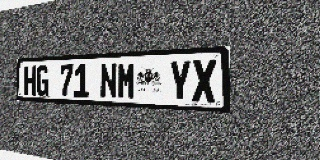1: (74, 64, 89, 98)
7: (59, 64, 73, 97)
G: (36, 65, 49, 96)
H: (24, 66, 36, 96)
M: (117, 62, 136, 100)
N: (100, 63, 117, 99)
X: (192, 59, 216, 103)
Y: (169, 60, 191, 102)
